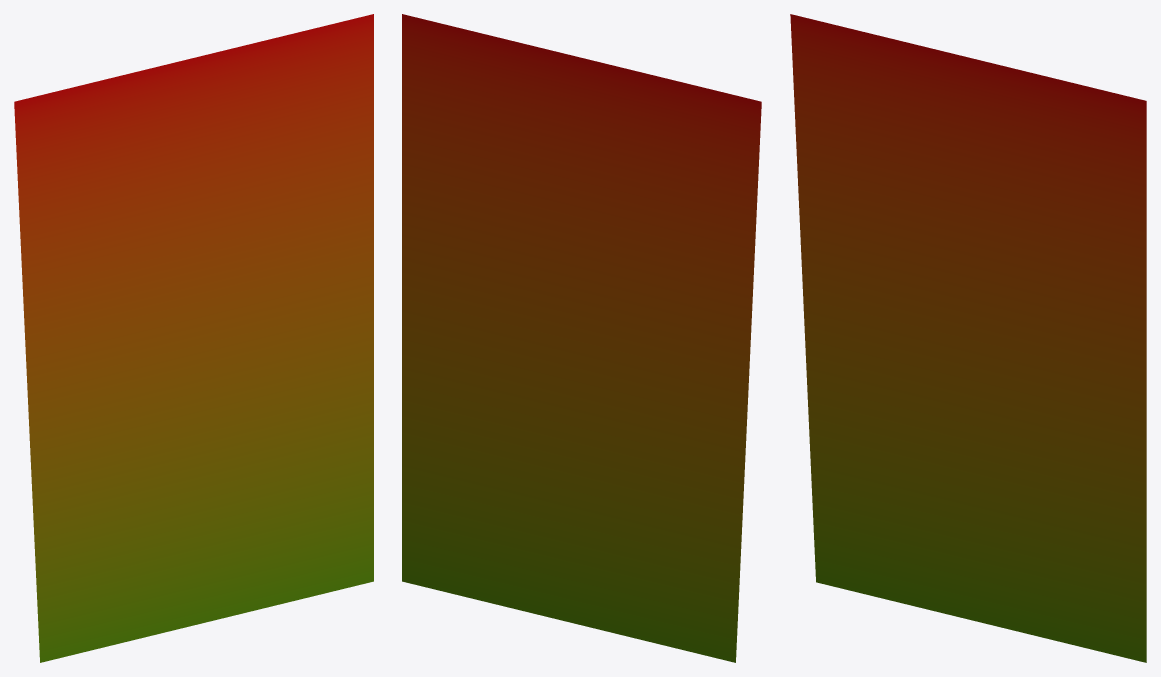
The model's file is Var7_LOD3.fbx.
The picture shows the model from 3 angles, left to right: view 1: azimuth 30°, elevation 25°; view 2: azimuth 150°, elevation 25°; view 3: azimuth 330°, elevation 25°; orthographic projection.
Parts seen in each view (by area): view 1: _b198_Var7_LOD3; view 2: _b198_Var7_LOD3; view 3: _b198_Var7_LOD3.
Boxes of the visible parts, x1,y1,x2,y2 form: _b198_Var7_LOD3: [14, 14, 373, 662]; _b198_Var7_LOD3: [402, 14, 761, 662]; _b198_Var7_LOD3: [790, 14, 1146, 662].
Bounding box in the file's own units: 31.51 × 47.52 × 1.2e-05.
